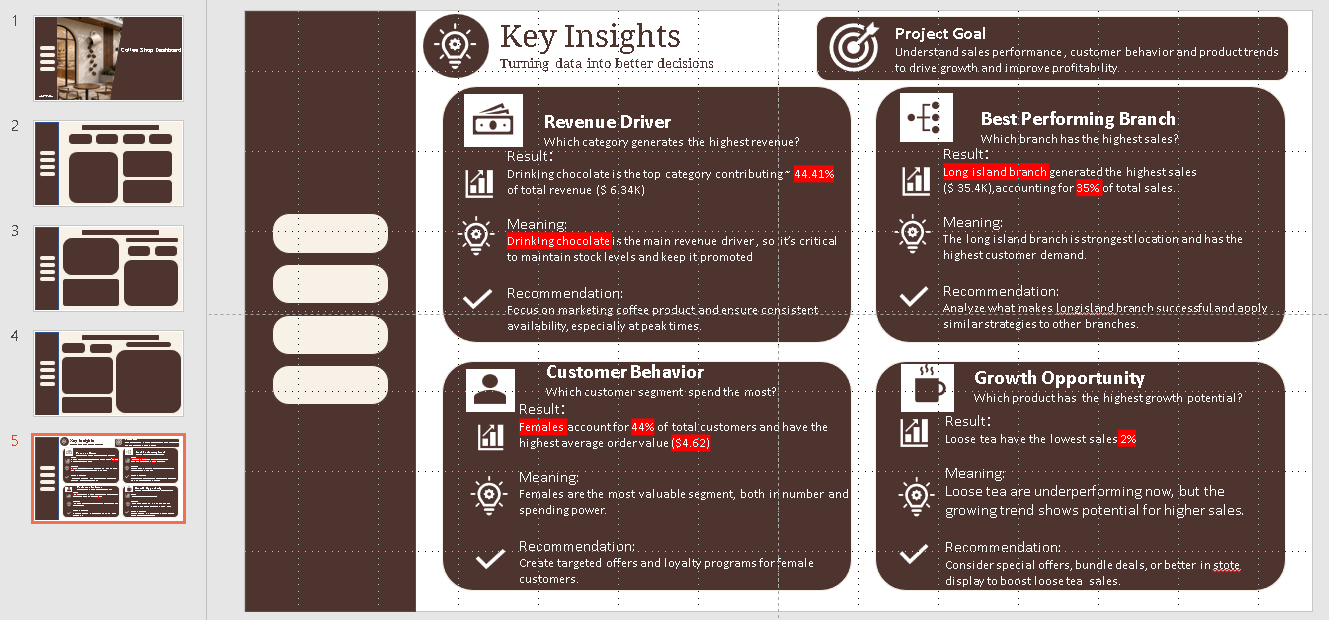

The dashboard page shown, as its layout file describes it:
{"tool":"powerbi","page":{"name":"key Insights","canvas":[1920,1080],"ordinal":4},"visuals":[{"type":"actionButton","title":"Home","box":[70,375,168.8,58.8],"z":0},{"type":"actionButton","title":"Overview","box":[65,467.5,180,60],"z":1000},{"type":"actionButton","title":"CustomerAnalisis","box":[50,557.5,207.5,58.8],"z":2000},{"type":"actionButton","title":"Product Analisis","box":[40,650,222.5,75],"z":3000}]}

Visuals, with their boxes on the page's 1920x1080 design canvas (x1, y1, x2, y2). These are canvas units, not pixel positions in the 1329x620 screenshot, which may show the page scaled, cropped or inside an application window:
"Home" actionButton: box=[70, 375, 239, 434]
"Overview" actionButton: box=[65, 468, 245, 528]
"CustomerAnalisis" actionButton: box=[50, 558, 258, 616]
"Product Analisis" actionButton: box=[40, 650, 262, 725]
